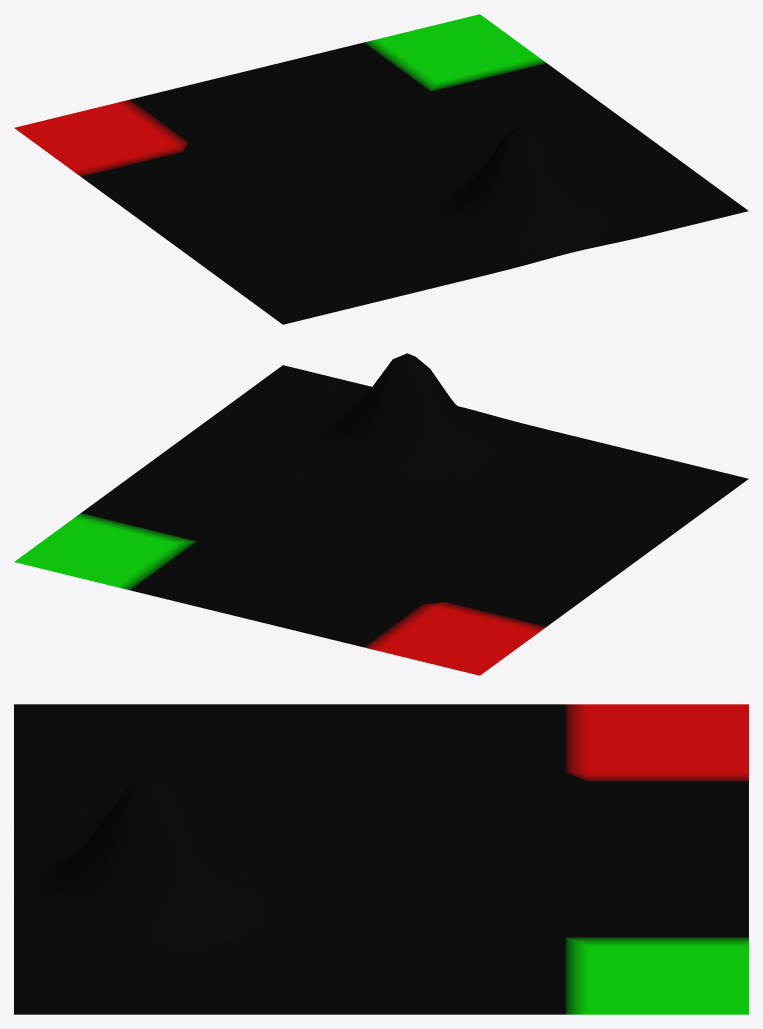
Rendered from terrainBlockTestBlender.d49c53dc.glb.
3 renders of one model, top to bottom at view 1: azimuth 30°, elevation 25°; view 2: azimuth 150°, elevation 25°; view 3: azimuth 270°, elevation 25°, orthographic. The views are drawn at different scales.
Visible parts, largest first — view 1: terrainBlockTestBlender; view 2: terrainBlockTestBlender; view 3: terrainBlockTestBlender.
Boxes of the visible parts, x1,y1,x2,y2 form: terrainBlockTestBlender: [14, 14, 748, 324]; terrainBlockTestBlender: [14, 353, 748, 675]; terrainBlockTestBlender: [14, 704, 748, 1014].
Bounding box in the file's own units: 32 × 6 × 32.
